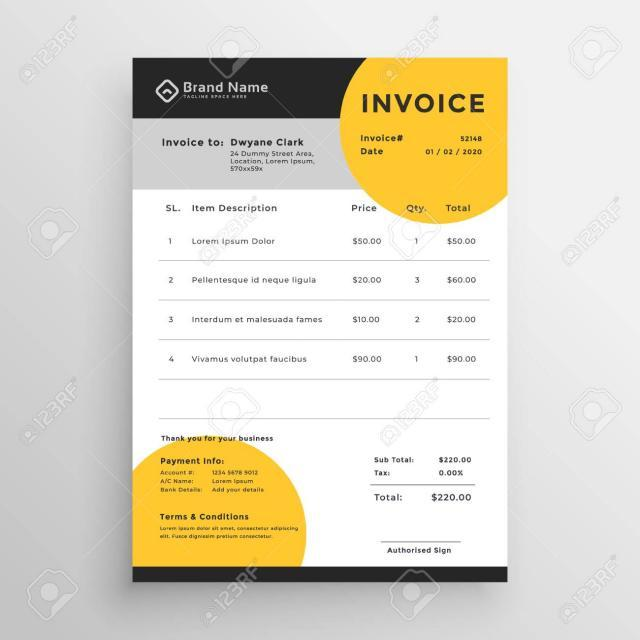customer_address: (225, 150, 317, 177)
customer_name: (227, 135, 308, 149)
invoice_date: (419, 146, 486, 158)
invoice_number: (457, 134, 489, 143)
invoice_subtotal: (435, 454, 477, 465)
invoice_total: (427, 490, 476, 504)
item_description: (187, 232, 326, 374)
item_quantity: (402, 230, 428, 370)
item_total_price: (437, 228, 484, 372)
item_unit_price: (344, 230, 389, 370)
supplier_name: (180, 79, 270, 102)
tax_rate: (434, 468, 469, 480)
